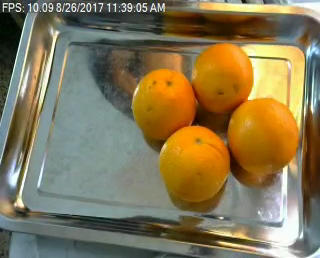Orange: (157, 124, 230, 202), (227, 95, 299, 174), (132, 69, 196, 141), (190, 43, 253, 114)
